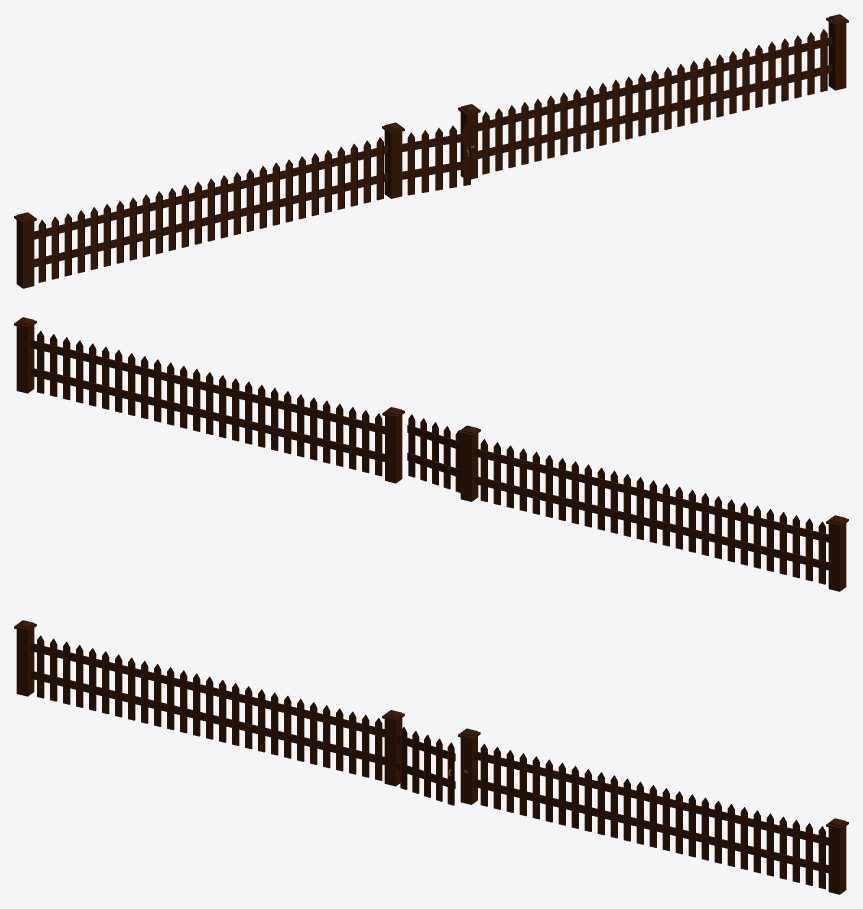
Rendered from Fence Entrance 4.fbx.
3 views of the same model, one above another, from view 1: azimuth 30°, elevation 25°; view 2: azimuth 150°, elevation 25°; view 3: azimuth 330°, elevation 25° (orthographic).
Visible parts, largest first — view 1: Cube.004, Cube.008, Cube.002, Cube.006, Cube.011, Cube.007, Cube.009, Cube.003, Cube, Cube.010; view 2: Cube.004, Cube.008, Cube.006, Cube.002, Cube.011, Cube.007, Cube.009, Cube, Cube.003, Cube.010; view 3: Cube.004, Cube.008, Cube.002, Cube.006, Cube.011, Cube.003, Cube.007, Cube, Cube.009, Cube.010.
Boxes of the visible parts, box(x1,y1,x2,y2) form: Cube.004: box(482, 29, 827, 174); Cube.008: box(38, 137, 383, 282); Cube.002: box(478, 37, 832, 158); Cube.006: box(34, 145, 388, 267); Cube.011: box(407, 123, 470, 195); Cube.007: box(14, 212, 36, 288); Cube.009: box(382, 122, 404, 198); Cube.003: box(826, 14, 848, 90); Cube: box(458, 104, 480, 179); Cube.010: box(402, 133, 468, 179); Cube.004: box(37, 331, 382, 476); Cube.008: box(480, 439, 825, 584); Cube.006: box(474, 448, 828, 570); Cube.002: box(30, 340, 384, 461); Cube.011: box(408, 414, 460, 492); Cube.007: box(826, 515, 848, 591); Cube.009: box(458, 425, 480, 501); Cube: box(382, 407, 404, 483); Cube.003: box(14, 317, 36, 393); Cube.010: box(407, 425, 460, 477); Cube.004: box(480, 743, 825, 889); Cube.008: box(37, 635, 382, 780); Cube.002: box(474, 751, 828, 873); Cube.006: box(30, 643, 384, 764); Cube.011: box(400, 727, 454, 805); Cube.003: box(826, 818, 848, 894); Cube.007: box(14, 620, 36, 696); Cube: box(458, 728, 480, 804); Cube.009: box(382, 710, 404, 786); Cube.010: box(396, 734, 455, 788).
Size of the model in its own units: 37.17 by 3.07 by 1.1.
